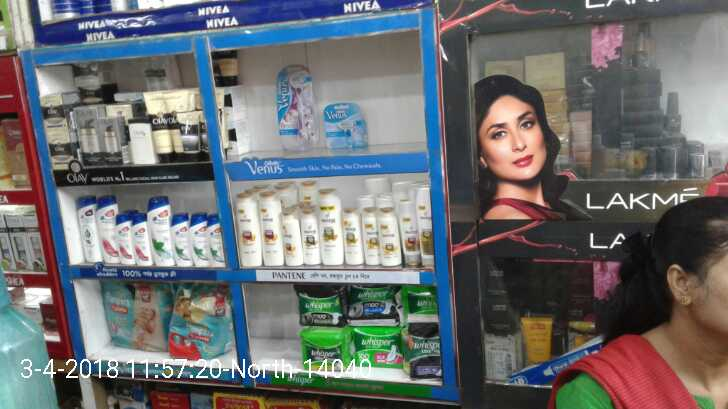venus: (278, 62, 314, 150), (323, 102, 366, 147)
